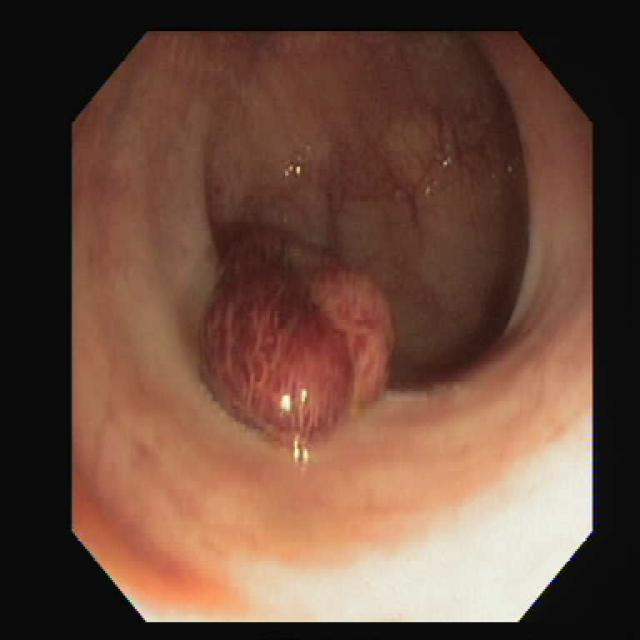tumor: (202, 229, 393, 436)
